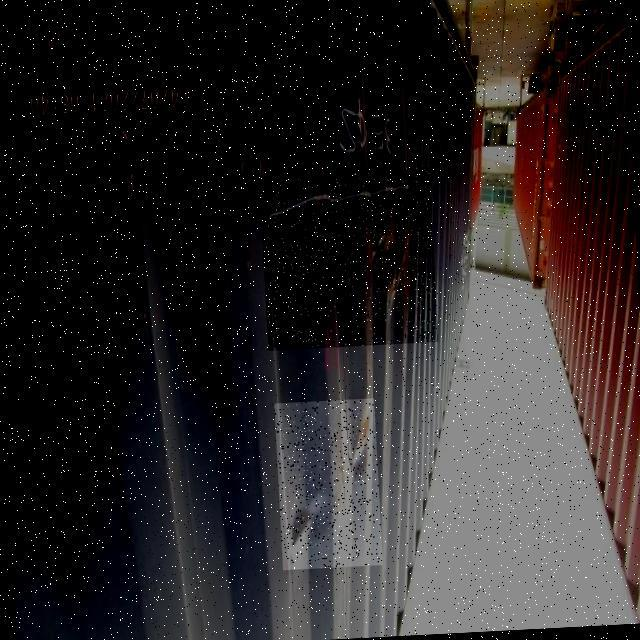Dent: (260, 167, 439, 351)
Minor-Dent: (274, 399, 383, 571)
